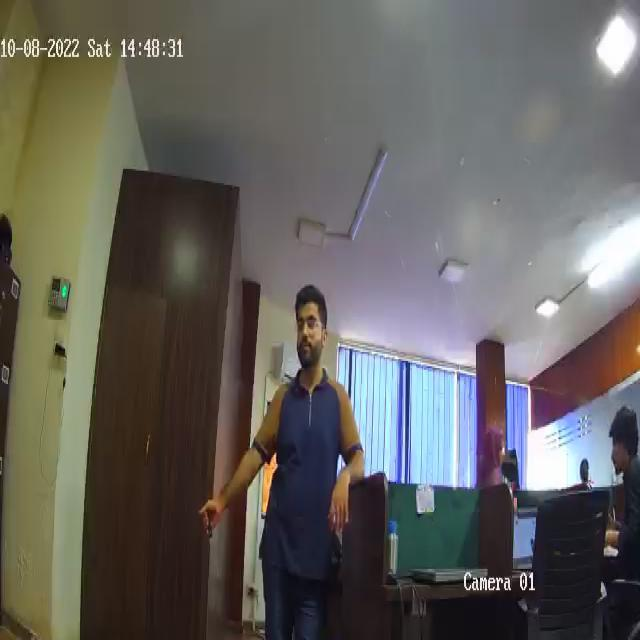Knife: (202, 508, 224, 582)
